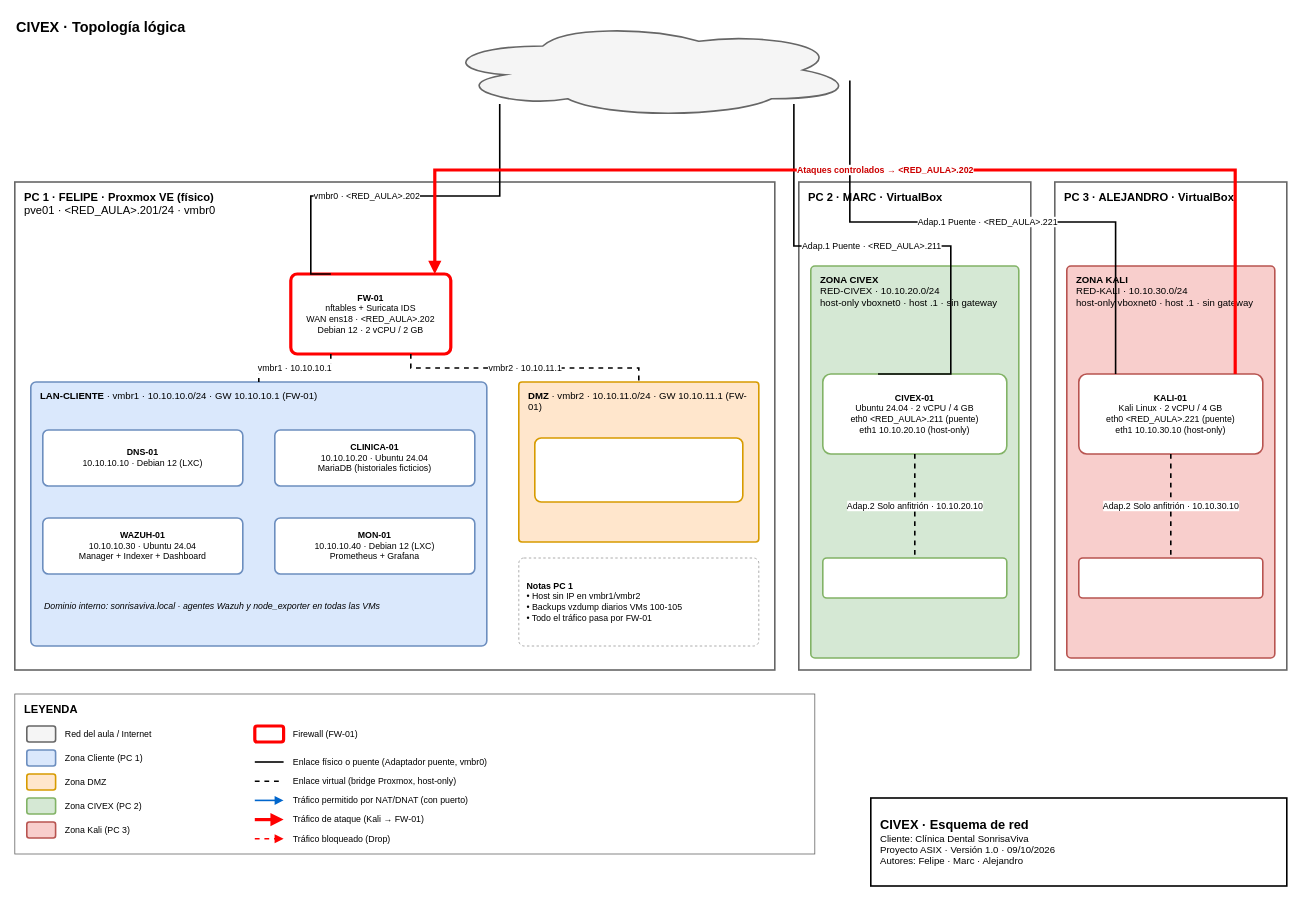
Some shapes in this 1301 by 900 pixel diagram are drawn without their labels. Here are the shapes that lost their labels. From the top down, the centre of each, then its label:
point 646,69: RED DEL AULA / INTERNET <RED_AULA>.0/24 GW <RED_AULA>.1
point 638,469: WEB-01 10.10.11.10 · Ubuntu 24.04 nginx · web de citas online
point 914,577: RED-CIVEX 10.10.20.0/24
point 1170,577: RED-KALI 10.10.30.0/24
